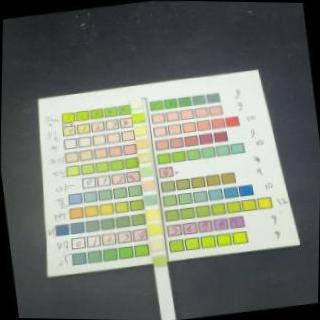mark: (152, 254, 168, 266), (142, 181, 156, 192), (148, 223, 162, 234), (140, 166, 154, 176), (144, 195, 158, 205), (145, 210, 159, 220), (150, 240, 164, 250), (130, 100, 142, 109), (136, 139, 148, 148), (140, 152, 150, 162), (132, 114, 144, 122), (134, 126, 146, 134)
